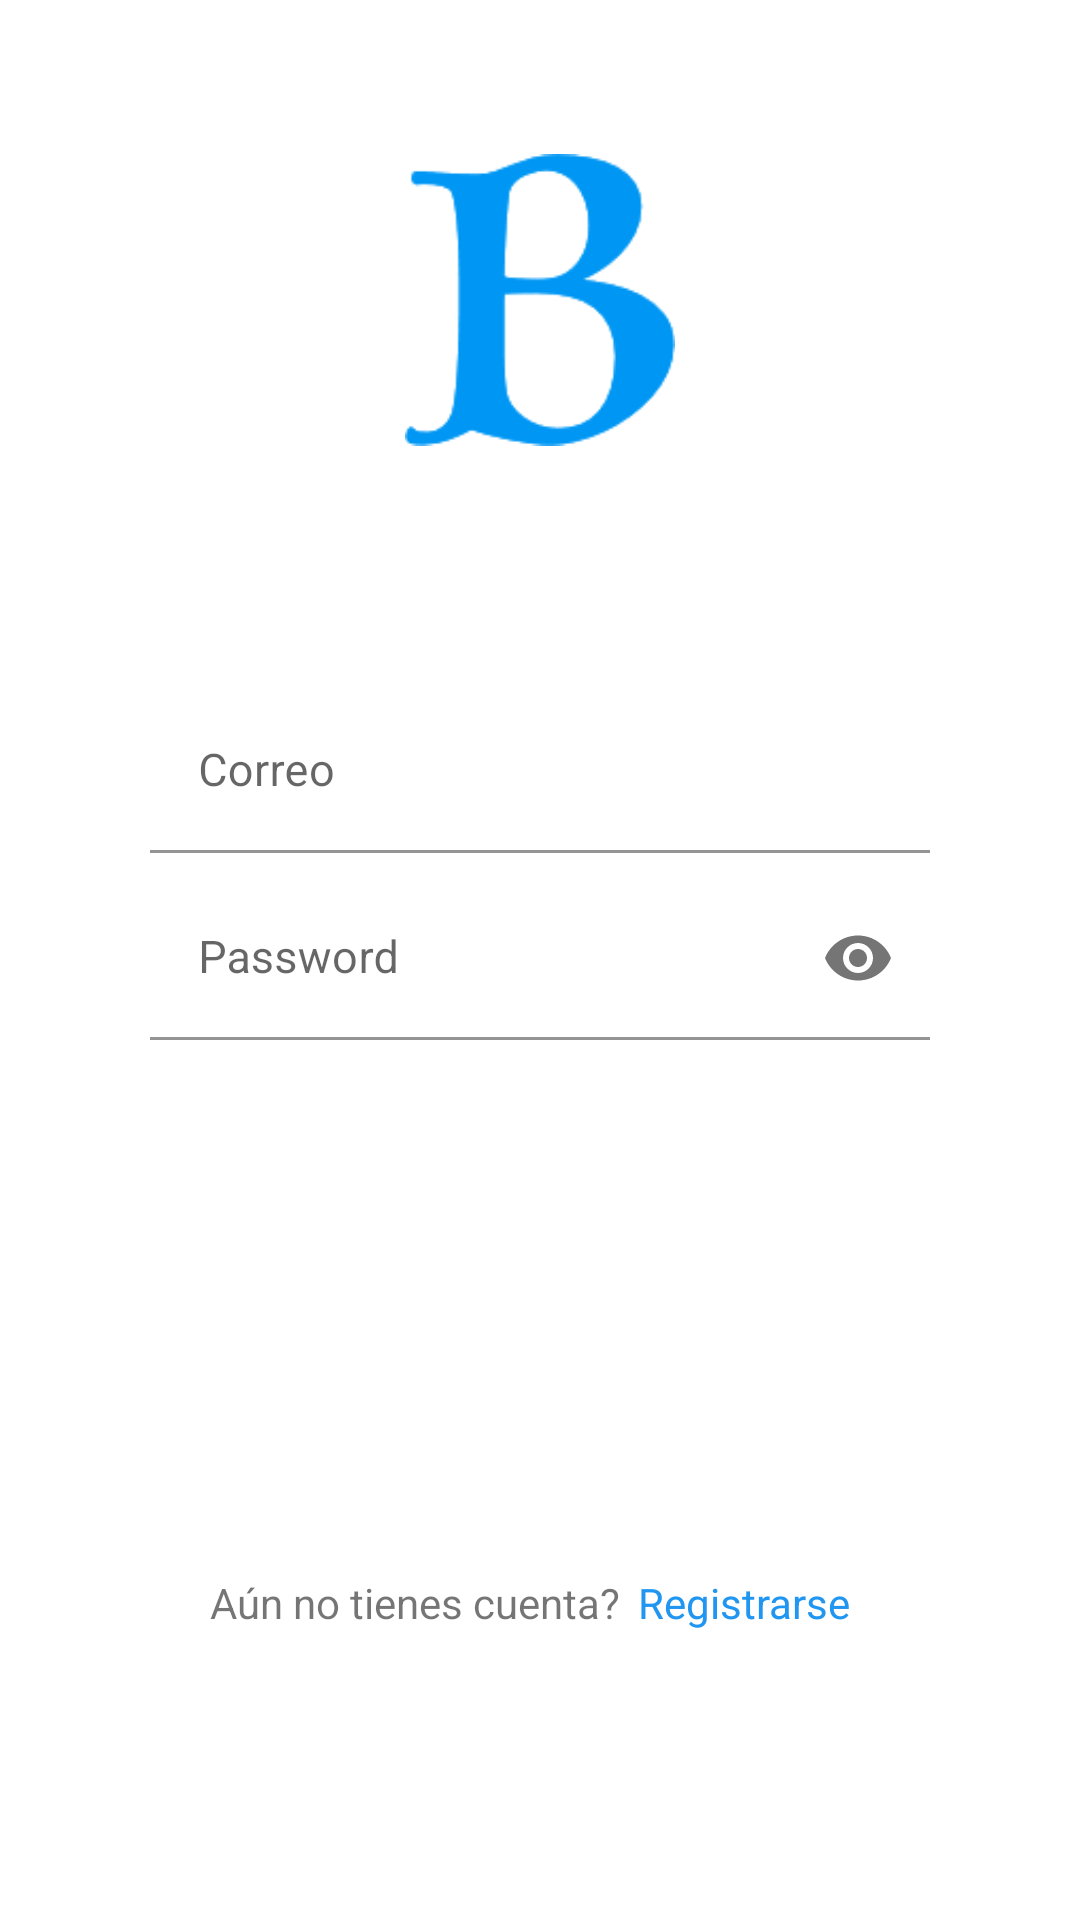

Icon bounding boxes for this 1080 x 1920 phone screenshot, format [x1=x1, y1=y1, x2=x2, y2=y2]:
blogapp: [x1=405, y1=154, x2=675, y2=446]
